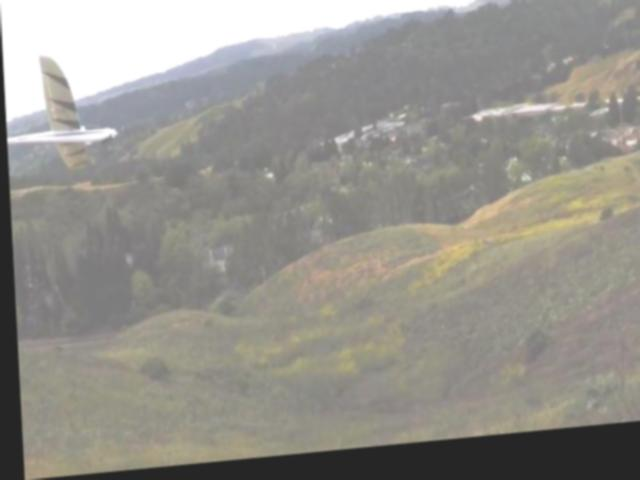iha: (2, 48, 118, 183)
